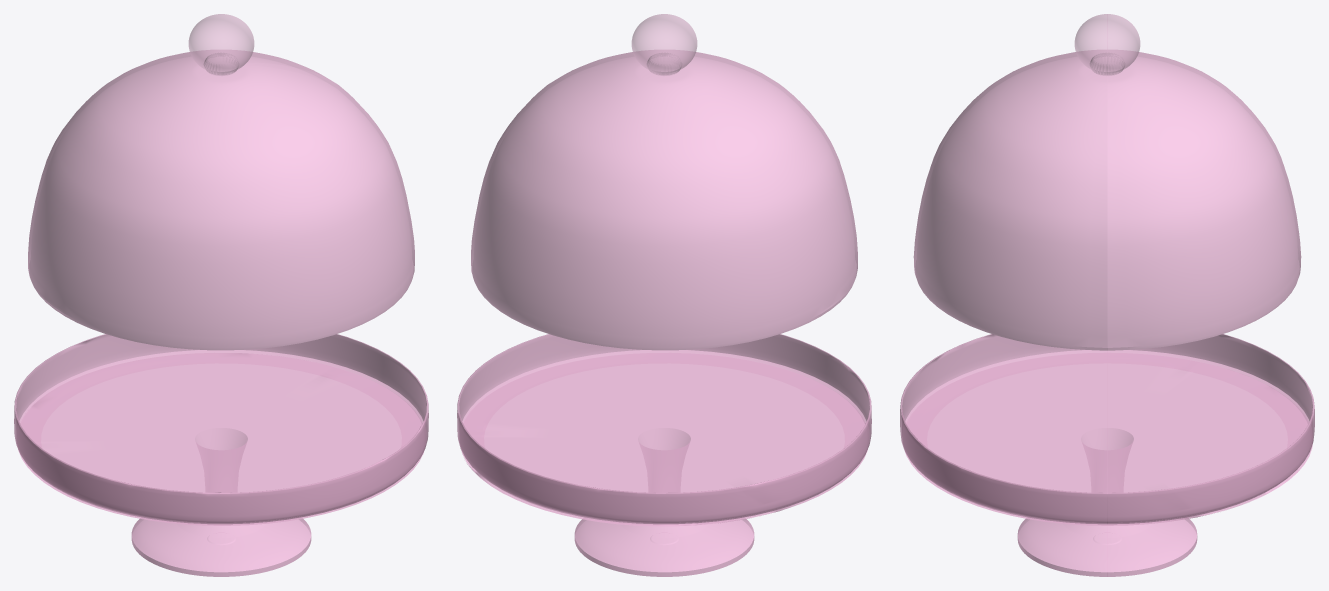
Rendered from tartera_vidrio.glb.
3 renders of one model, left to right at view 1: azimuth 30°, elevation 25°; view 2: azimuth 150°, elevation 25°; view 3: azimuth 270°, elevation 25°, orthographic.
Visible parts, largest first — view 1: Plane.001, Cylinder; view 2: Plane.001, Cylinder; view 3: Plane.001, Cylinder.
Part boxes in pixels (x1,y1,x2,y2): Plane.001: [28, 14, 414, 350]; Cylinder: [14, 334, 428, 576]; Plane.001: [471, 14, 857, 350]; Cylinder: [457, 334, 871, 576]; Plane.001: [913, 14, 1301, 350]; Cylinder: [900, 334, 1314, 576].
Size of what is drawn, in the model's own units: 7.25 by 10.06 by 7.25.
